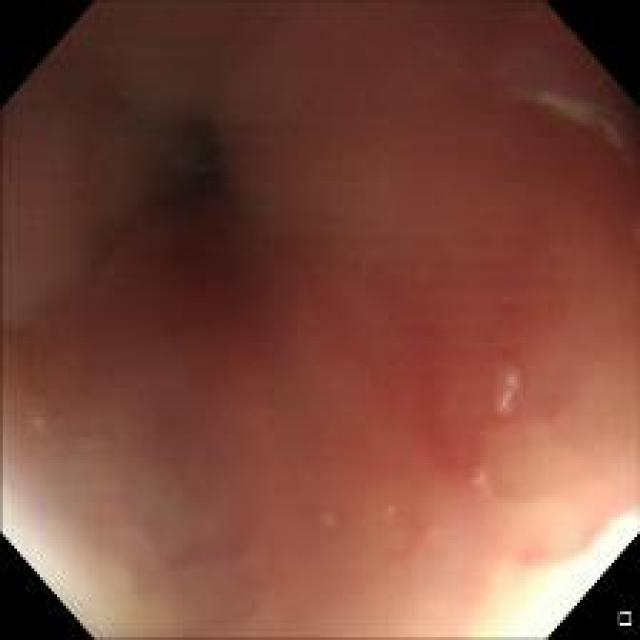color misalignment: (525, 74, 635, 162), (486, 360, 528, 416)
contrast: (45, 46, 315, 359)
saturation: (470, 510, 632, 636)
